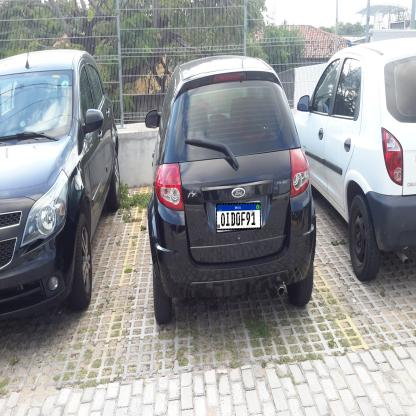PlacaM: (216, 202, 261, 230)
